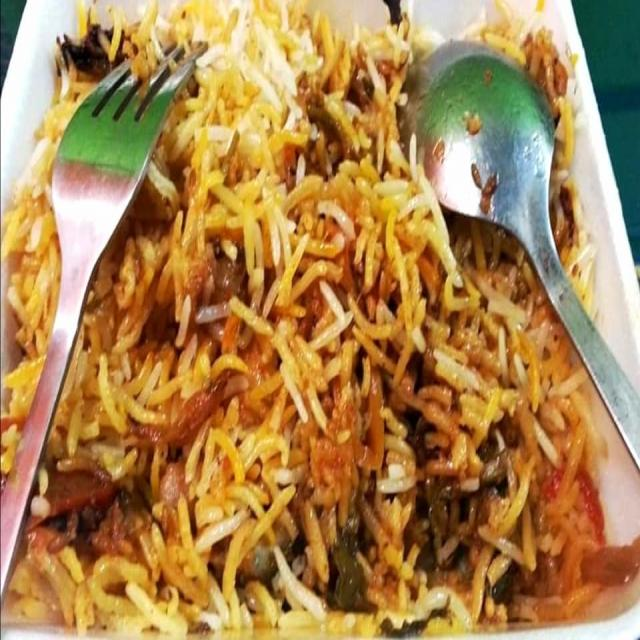Biryani: (29, 26, 578, 636)
